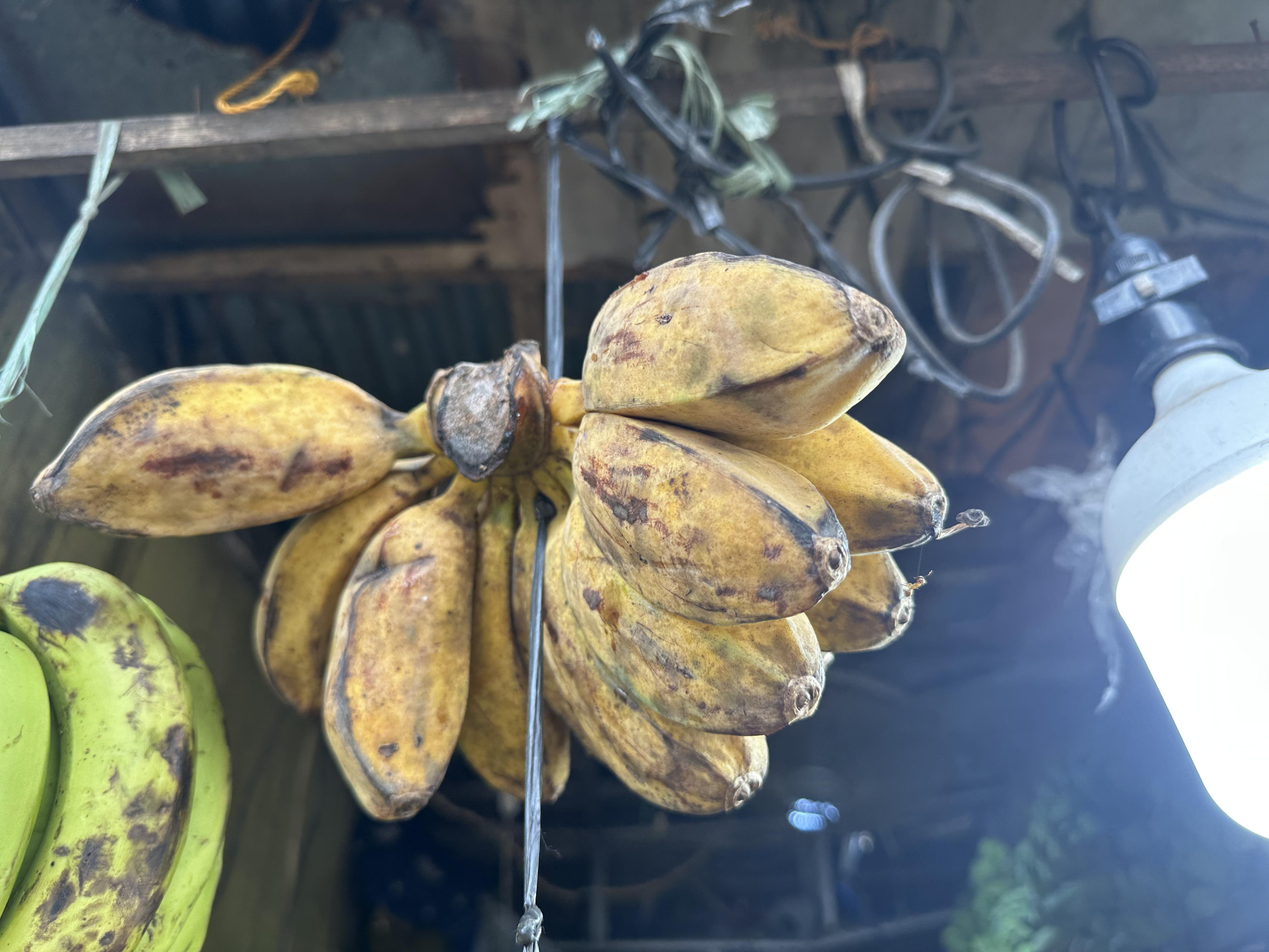ripe: (30, 253, 985, 819)
